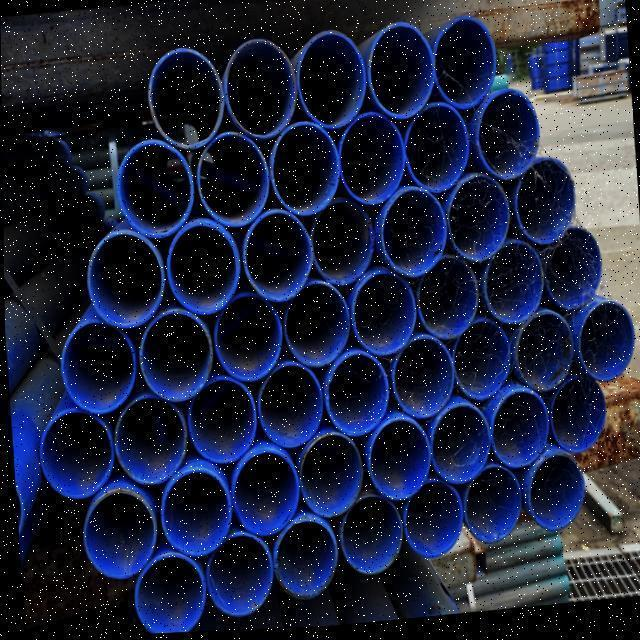pipe: (145, 49, 227, 152), (219, 40, 299, 142), (86, 233, 168, 332), (115, 141, 192, 243), (292, 32, 370, 132), (56, 319, 137, 413), (364, 28, 437, 130), (428, 24, 506, 119), (183, 380, 267, 466), (136, 311, 214, 403), (269, 122, 341, 221), (166, 227, 242, 319), (39, 410, 115, 502), (196, 132, 268, 227), (337, 116, 407, 212), (377, 191, 450, 283), (114, 398, 188, 487), (212, 298, 286, 386), (243, 213, 313, 306), (405, 255, 475, 348), (161, 467, 233, 557), (476, 92, 543, 187), (82, 492, 155, 579), (322, 354, 392, 441), (446, 179, 512, 271), (349, 277, 421, 361), (283, 283, 351, 371), (309, 202, 375, 292), (256, 364, 322, 454), (134, 555, 206, 636), (405, 108, 472, 195), (232, 454, 300, 539), (205, 537, 276, 618), (513, 162, 575, 253), (367, 424, 431, 511), (299, 435, 363, 521), (272, 523, 338, 604), (513, 316, 576, 400), (337, 500, 403, 580), (432, 406, 494, 491), (390, 344, 454, 426), (483, 245, 544, 331), (578, 304, 635, 391), (544, 233, 603, 317), (488, 392, 547, 475), (403, 480, 462, 563), (451, 324, 510, 405), (463, 467, 522, 548), (524, 462, 582, 541), (551, 377, 606, 460)
